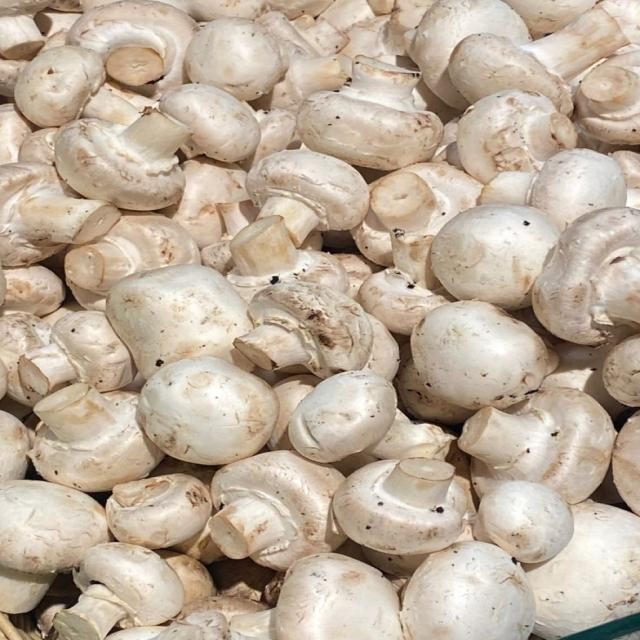champignon mushrooms: (448, 0, 638, 113), (459, 388, 615, 503), (107, 265, 253, 379), (297, 57, 442, 170), (209, 451, 346, 570), (525, 501, 639, 639), (139, 357, 278, 465), (412, 301, 548, 409), (0, 480, 109, 613), (533, 208, 639, 344), (30, 383, 163, 491), (55, 108, 190, 210), (409, 0, 531, 110), (431, 205, 559, 309), (234, 282, 373, 377), (401, 541, 535, 639), (65, 214, 199, 310), (333, 458, 466, 554), (54, 543, 184, 639), (67, 0, 197, 95), (0, 163, 119, 266), (480, 149, 626, 230), (247, 150, 368, 245), (457, 91, 577, 183), (275, 554, 404, 639), (227, 216, 348, 302), (288, 370, 396, 462), (19, 311, 135, 396), (161, 156, 257, 248), (185, 17, 287, 100), (474, 481, 573, 563), (106, 474, 211, 549), (159, 84, 259, 162), (576, 51, 639, 144), (2, 265, 66, 317), (612, 412, 639, 514), (602, 335, 639, 406), (0, 412, 30, 483)
